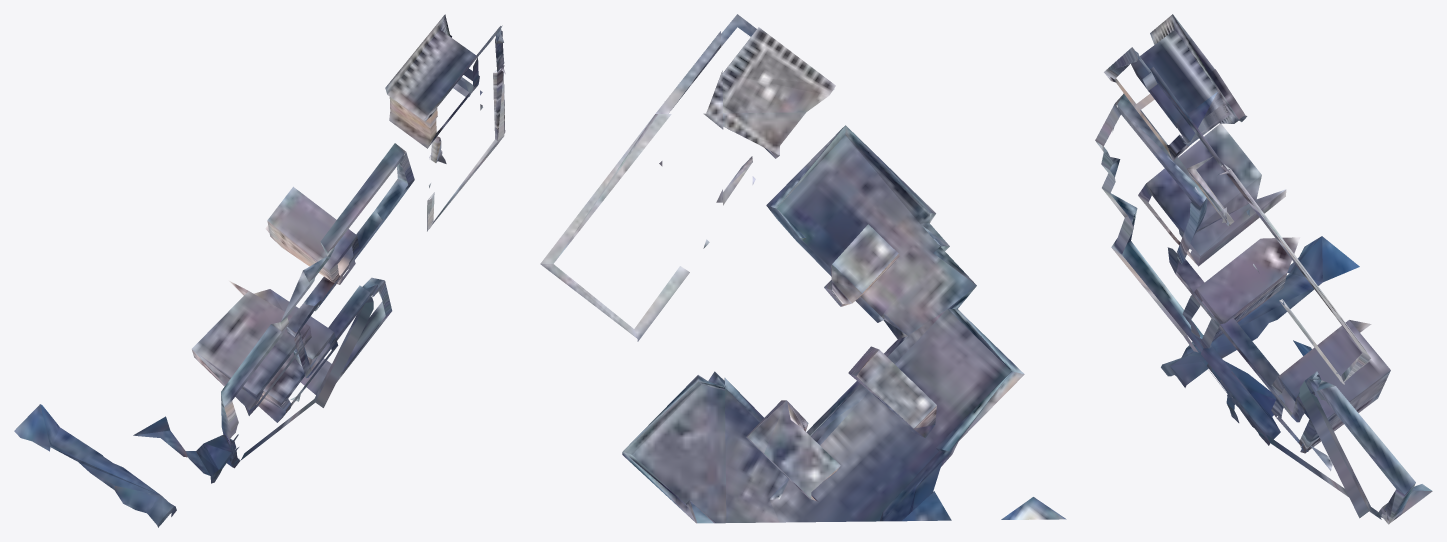
3 renders of one model, left to right at view 1: azimuth 30°, elevation 25°; view 2: azimuth 150°, elevation 25°; view 3: azimuth 270°, elevation 25°, orthographic. The views are drawn at different scales.
Size of the model in its own units: 53.74 by 44.23 by 25.43.
Materials: 1 (1 with a texture image).
